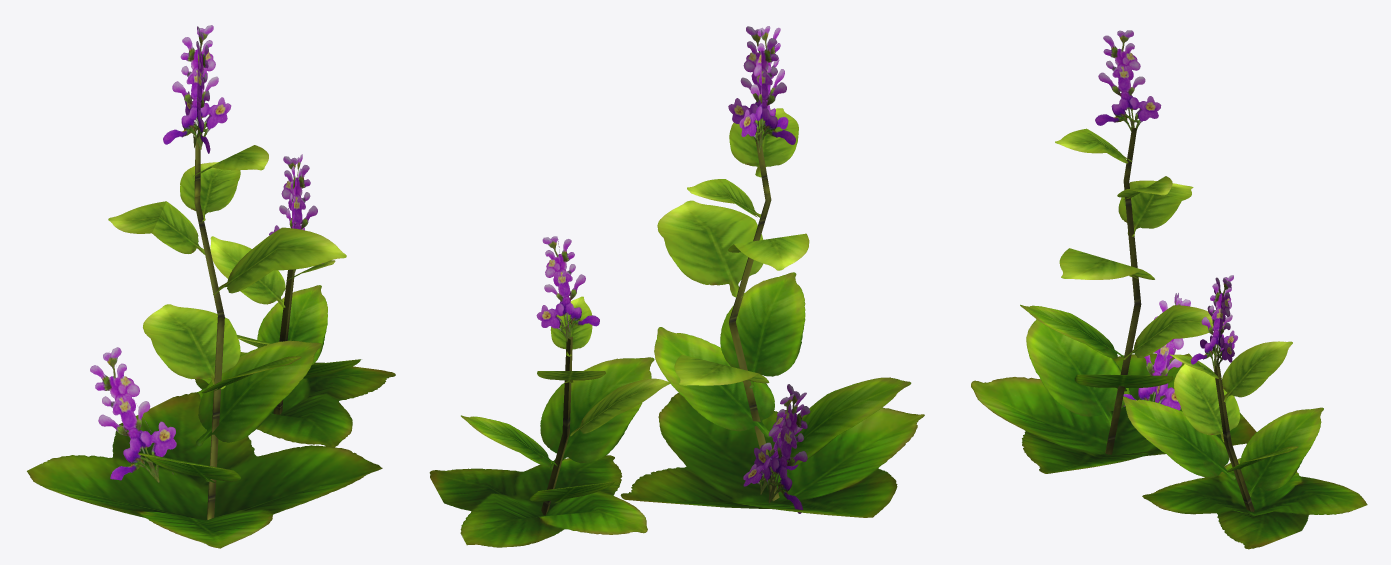
Rendered from wm_灌木洛阳城大灌01.fbx.
3 views of the same model, side by side, from view 1: azimuth 30°, elevation 25°; view 2: azimuth 150°, elevation 25°; view 3: azimuth 270°, elevation 25° (orthographic). The views are drawn at different scales.
Parts seen in each view (by area): view 1: wm_灌木洛阳城大灌01; view 2: wm_灌木洛阳城大灌01; view 3: wm_灌木洛阳城大灌01.
Boxes of the visible parts, x1,y1,x2,y2 form: wm_灌木洛阳城大灌01: (27,25,395,548); wm_灌木洛阳城大灌01: (429,26,924,547); wm_灌木洛阳城大灌01: (971,30,1367,549).
Bounding box in the file's own units: 131 × 145 × 128.
